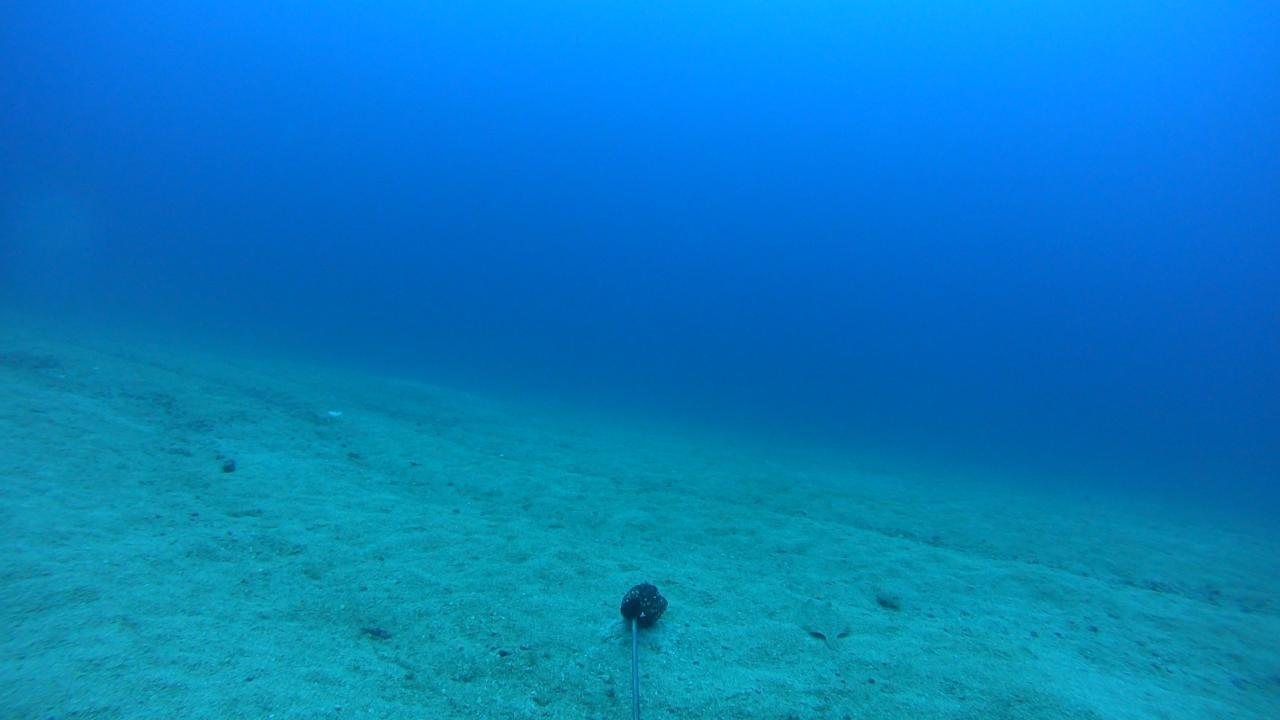bothus: (785, 590, 856, 649)
